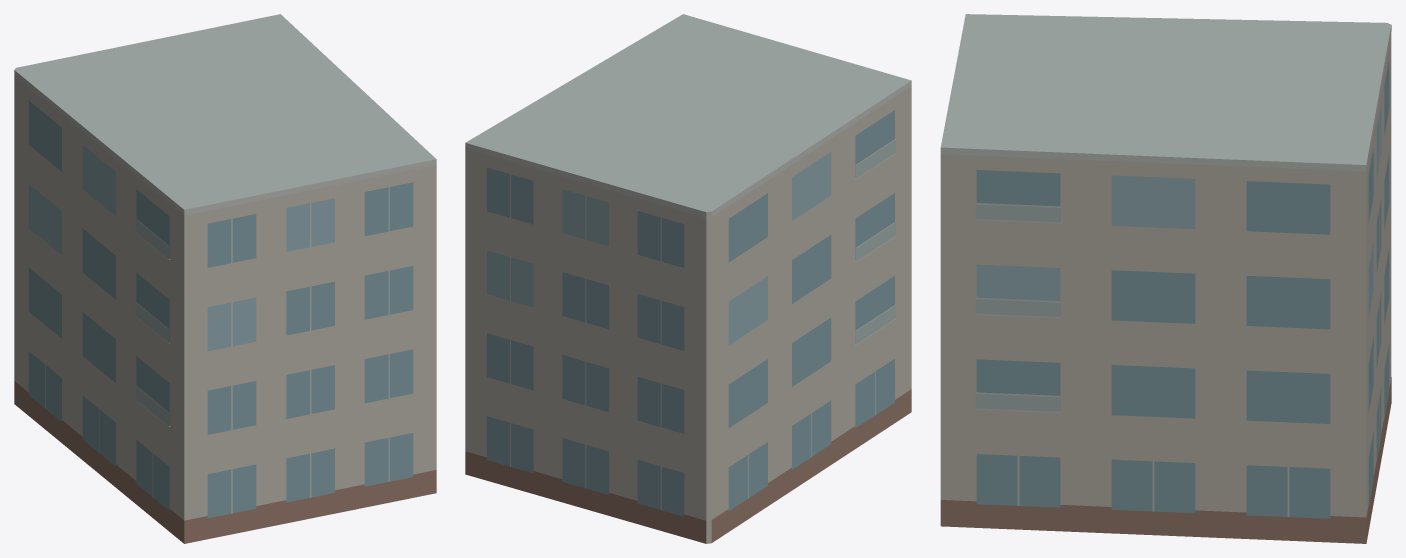
The model's file is survey-upis-32839524.glb.
3 renders of one model, left to right at view 1: azimuth 30°, elevation 25°; view 2: azimuth 150°, elevation 25°; view 3: azimuth 270°, elevation 25°, orthographic. The views are drawn at different scales.
Visible parts, largest first — view 1: survey-upis-32839524.tmp; view 2: survey-upis-32839524.tmp; view 3: survey-upis-32839524.tmp.
Part boxes in pixels (box(x1,y1,x2,y2)): survey-upis-32839524.tmp: box(14, 14, 436, 543); survey-upis-32839524.tmp: box(465, 14, 911, 543); survey-upis-32839524.tmp: box(940, 14, 1391, 543).
Size of the model in its own units: 12.02 by 14.05 by 15.16.
